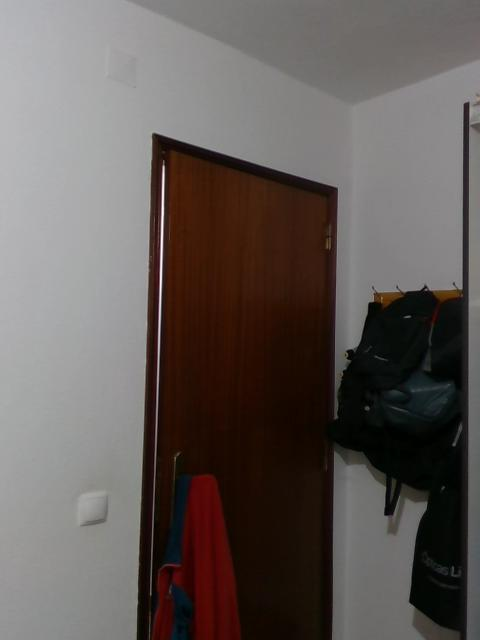door: (152, 147, 329, 640)
